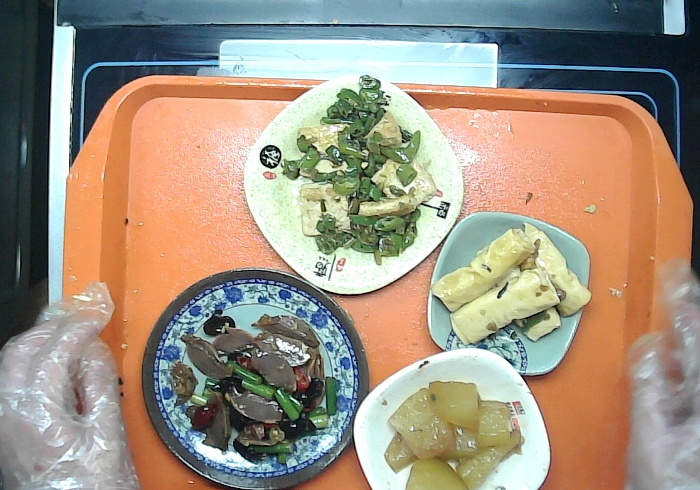NLDX-Bai_Se_Xiao_Fang_Die: (352, 344, 551, 490)
NLDX-Fu_Zi_Fang_Die: (245, 75, 469, 302)
NLDX-Qing_Hua_Xiao_Fang_Die: (419, 212, 611, 384)
NLDX-Qing_Hua_Yuan_Die: (137, 272, 373, 488)
